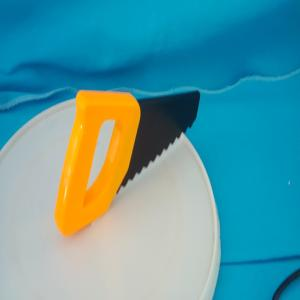serrote: (54, 88, 200, 238)
